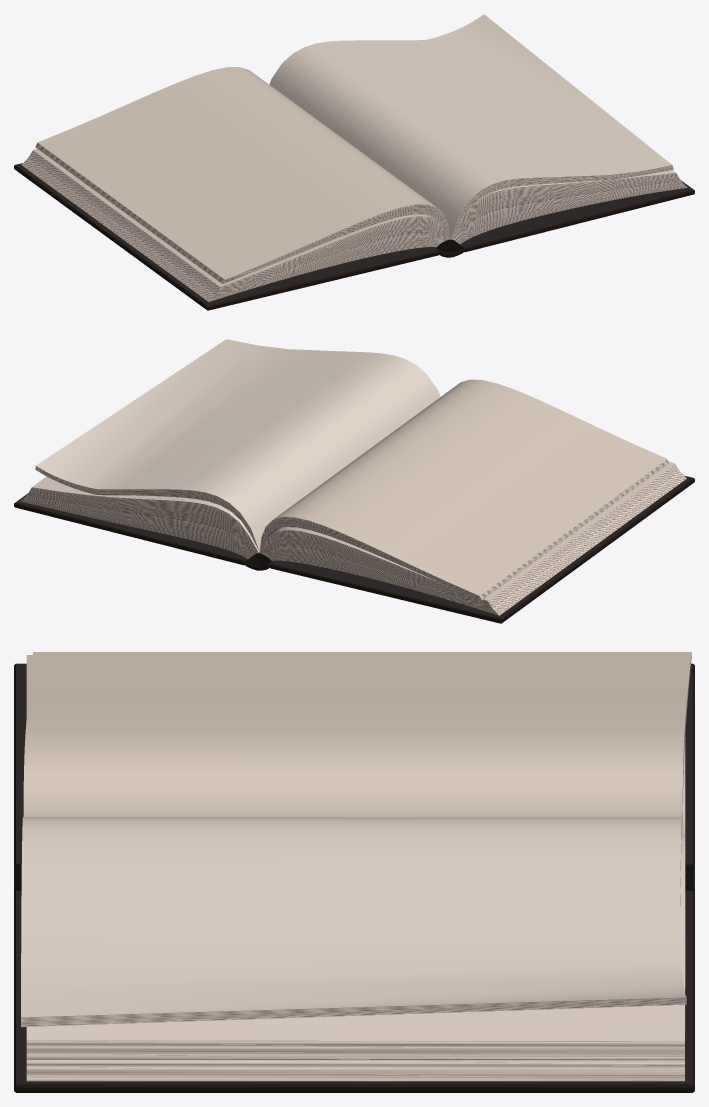
The model's file is Libro 1.fbx.
The picture shows the model from 3 angles, top to bottom: view 1: azimuth 30°, elevation 25°; view 2: azimuth 150°, elevation 25°; view 3: azimuth 270°, elevation 25°; orthographic projection. The views are drawn at different scales.
Parts seen in each view (by area): view 1: Book; view 2: Book; view 3: Book.
Boxes of the visible parts, left/top/right/bottom form: Book: left=14, top=14, right=694, bottom=310; Book: left=14, top=339, right=694, bottom=623; Book: left=14, top=652, right=694, bottom=1092.
Size of the model in its own units: 10307 by 1258 by 7088.
Materials: 1 (1 with a texture image).
